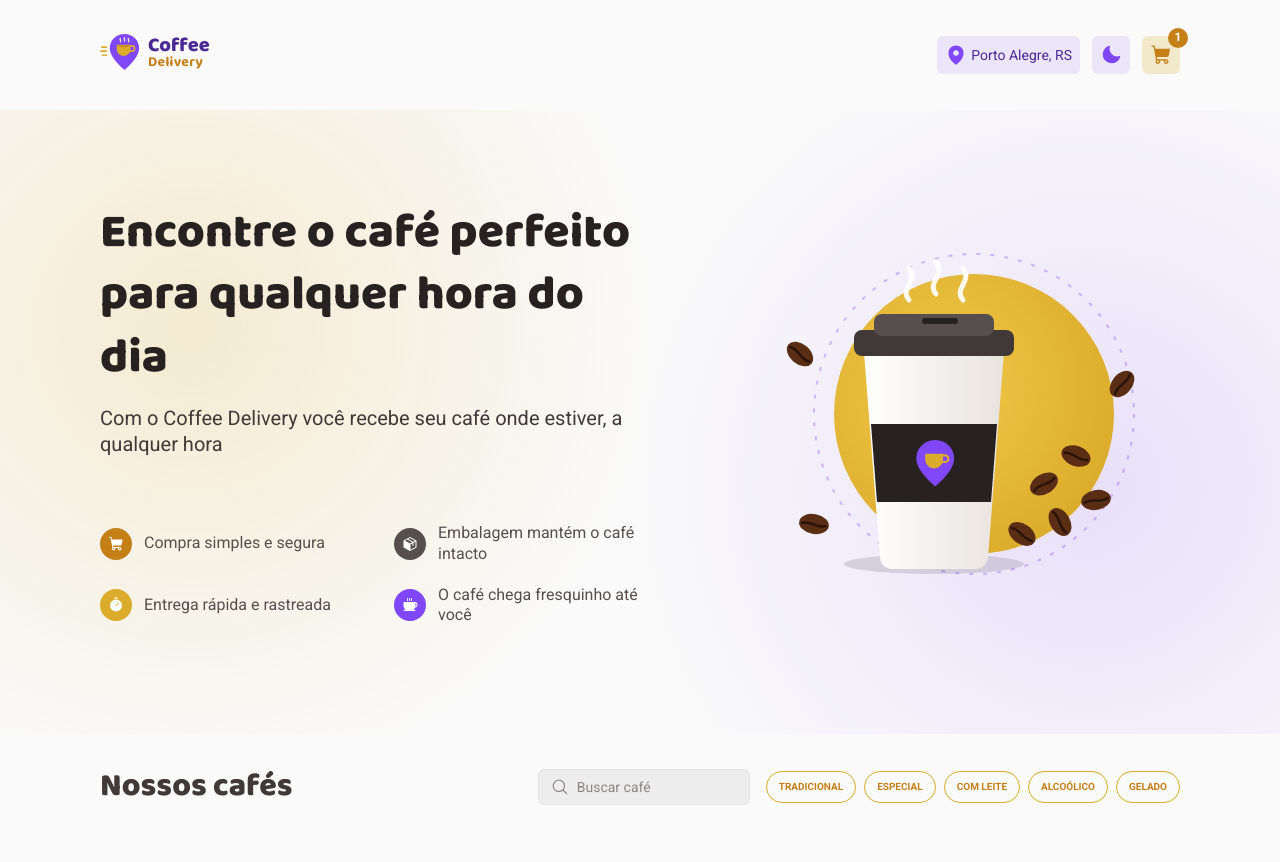
Test: Tema, rotas e acessibilidade › RF-07: navega da Home ao Checkout pelo carrinho, sem recarregar
Step 1. Click the link named "carrinho com 1 unidade" → (1161, 55), box top-left (1142, 36), bottom-right (1180, 74)
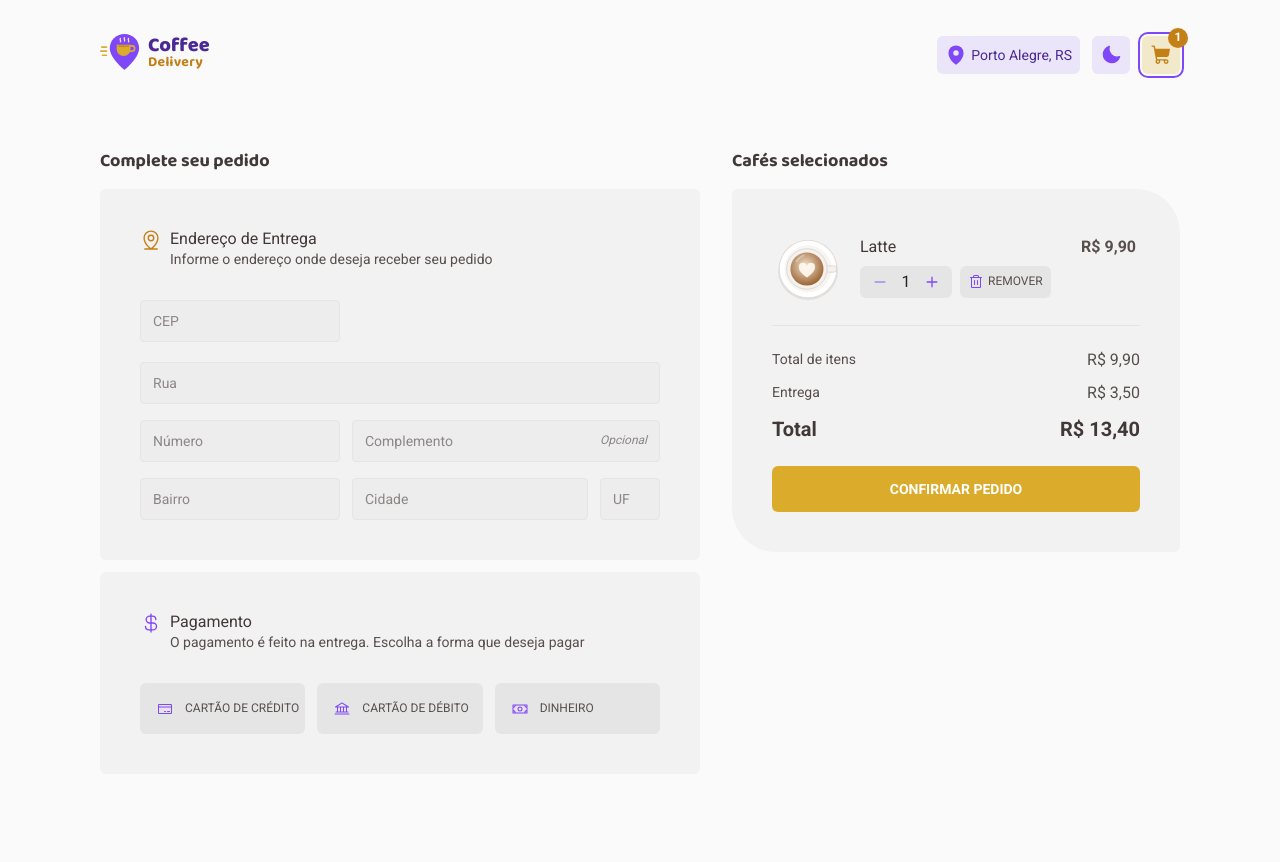
Check: the heading "Complete seu pedido" is shown, box top-left (100, 147), bottom-right (270, 175)
